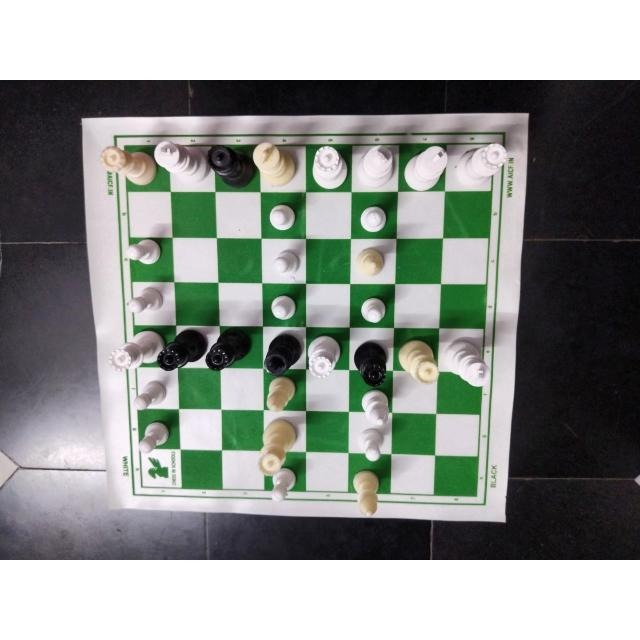black-king: (260, 331, 302, 375)
black-queen: (207, 141, 253, 187), (206, 328, 251, 375), (157, 328, 204, 372), (354, 341, 392, 383)
white-bishop: (350, 464, 383, 518), (355, 388, 395, 424), (263, 377, 300, 413), (359, 238, 389, 282)
white-king: (441, 336, 491, 392), (152, 138, 207, 184), (399, 142, 446, 188), (247, 143, 295, 185), (354, 145, 394, 187)
white-pawn: (120, 237, 164, 272), (121, 285, 167, 317), (134, 423, 170, 462), (127, 381, 171, 412), (262, 202, 296, 231), (354, 430, 385, 461), (357, 295, 389, 325), (269, 470, 296, 505), (360, 202, 389, 234), (270, 296, 298, 324), (270, 249, 299, 276)
white-queen: (104, 327, 164, 371), (252, 417, 292, 473), (460, 142, 504, 190), (400, 335, 440, 385), (306, 149, 346, 195), (306, 337, 350, 378)
